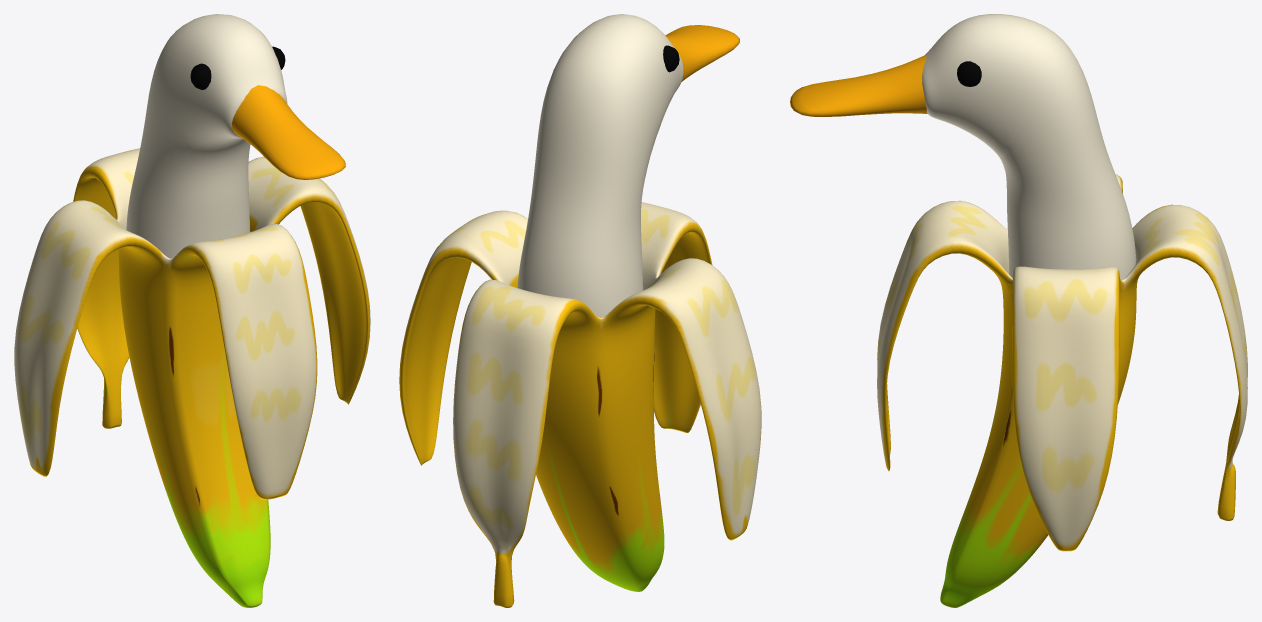
File: bananaDuck.gltf
3 views of the same model, side by side, from view 1: azimuth 30°, elevation 25°; view 2: azimuth 150°, elevation 25°; view 3: azimuth 270°, elevation 25° (orthographic). The views are drawn at different scales.
Visible parts, largest first — view 1: banana peel_0; view 2: banana peel_0; view 3: banana peel_0.
Boxes of the visible parts, x1=… form: banana peel_0: x1=14, y1=14, x2=370, y2=607; banana peel_0: x1=399, y1=14, x2=761, y2=607; banana peel_0: x1=790, y1=14, x2=1247, y2=607.
Size of the model in its own units: 2.52 by 4.25 by 3.01.
Materials: 4 (1 with a texture image).
